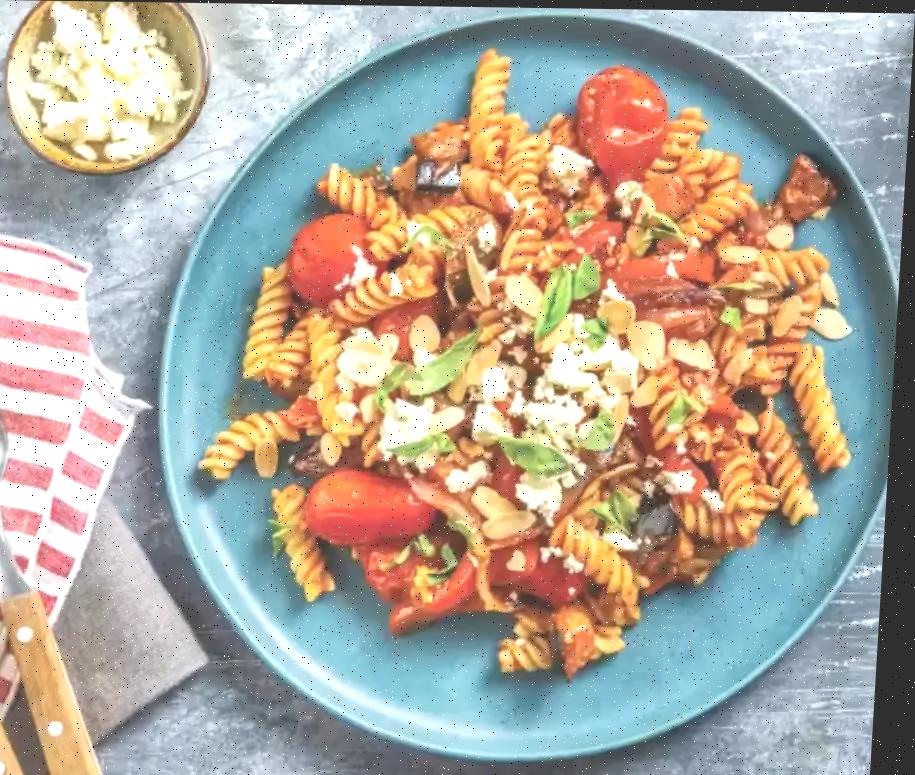pasta: (199, 49, 850, 677), (789, 344, 850, 472), (756, 404, 818, 525), (272, 485, 334, 601), (199, 410, 300, 479), (567, 523, 641, 616), (328, 264, 435, 326), (243, 264, 291, 379), (317, 164, 400, 228), (469, 49, 510, 171), (679, 181, 755, 242), (502, 127, 546, 231), (712, 446, 777, 513), (674, 498, 756, 547), (649, 107, 707, 173), (499, 608, 554, 672), (265, 313, 312, 387), (676, 149, 740, 198), (306, 311, 342, 397), (756, 247, 828, 288), (318, 390, 363, 445), (460, 165, 509, 214), (498, 634, 556, 674), (366, 211, 408, 262), (544, 112, 577, 148), (361, 413, 381, 467)
